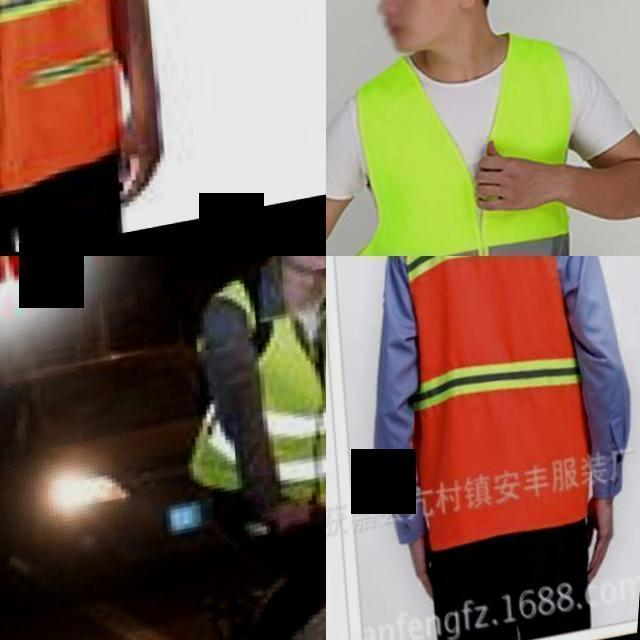vest: (385, 256, 617, 558), (336, 28, 617, 256), (195, 257, 326, 529), (0, 0, 151, 215)
